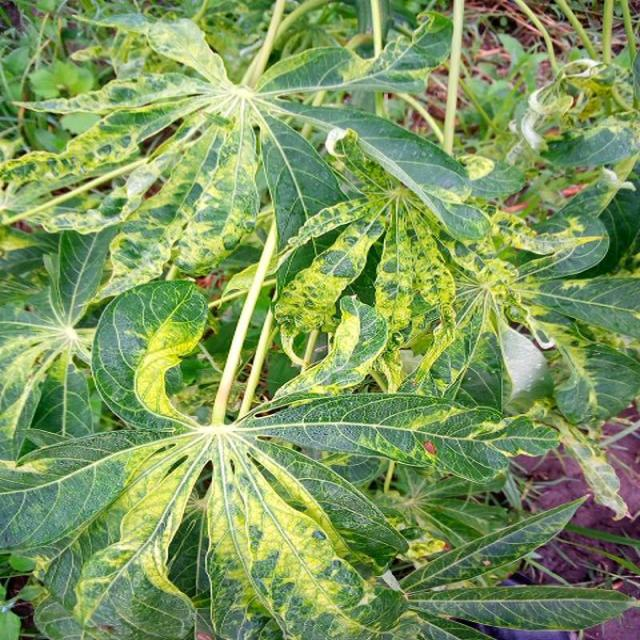cassava leaf: (1, 3, 638, 638), (90, 277, 210, 433)
